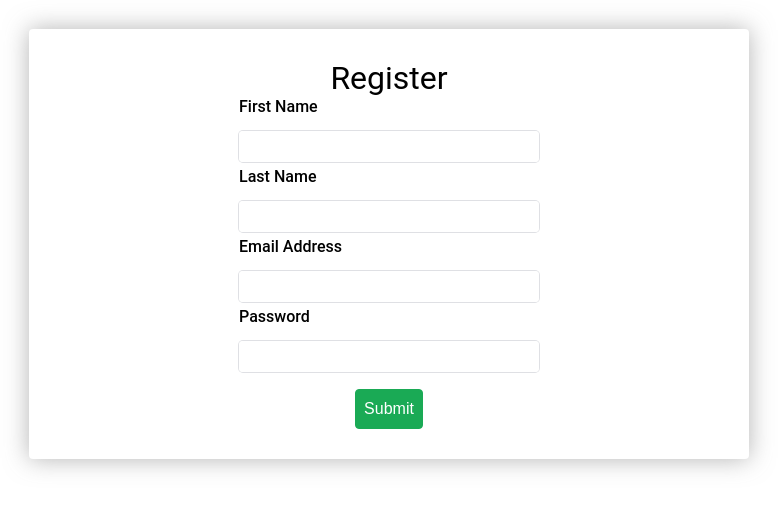
Registration Form tests › Success test
This screenshot has width=779, height=529.
Type "krishnakanth" into the field with test id "formFirstName" at (389,146), box [239,131,539,162]
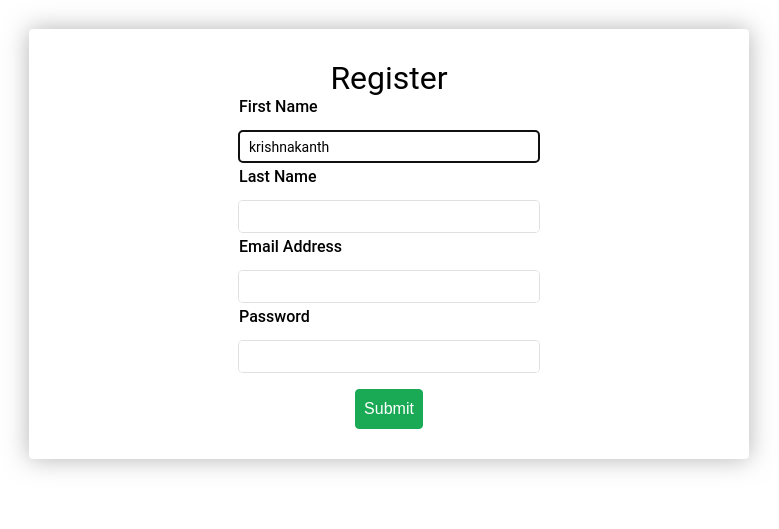
Type "M" into the field with test id "formLastName" at (389,216), box [239,201,539,232]
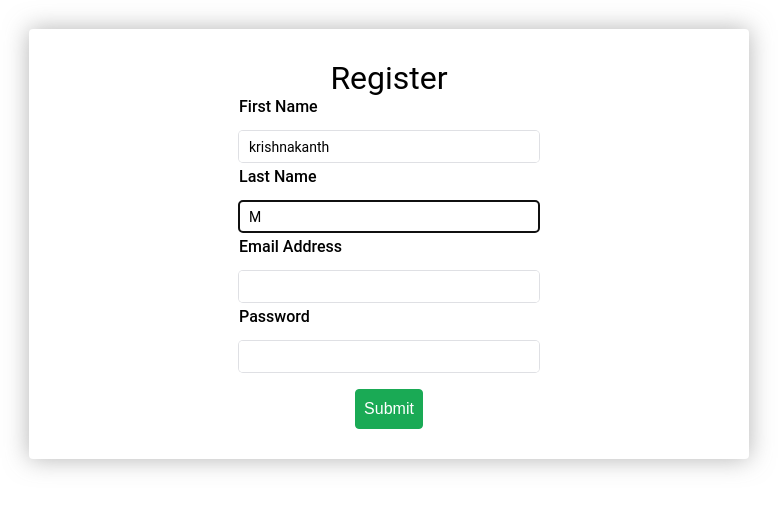
Type "krishna@g.com" into the field with test id "formEmail" at (389,286), box [239,271,539,302]
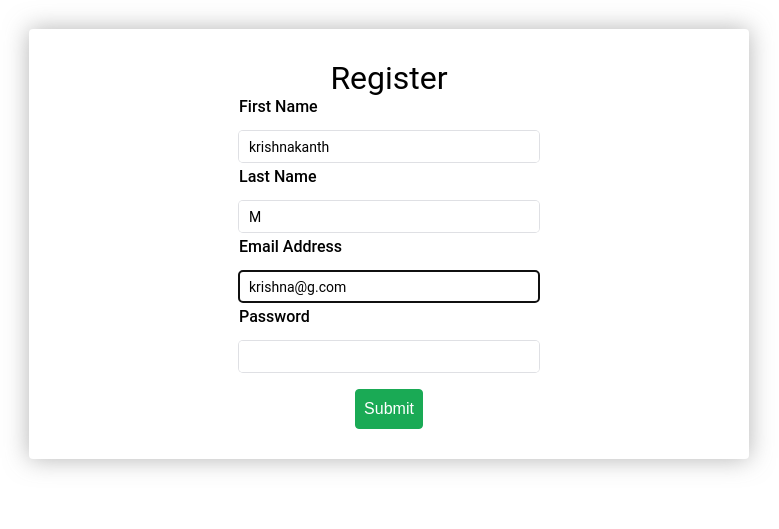
Type "password@123" into the password field with test id "formPassword" at (389,356), box [239,341,539,372]
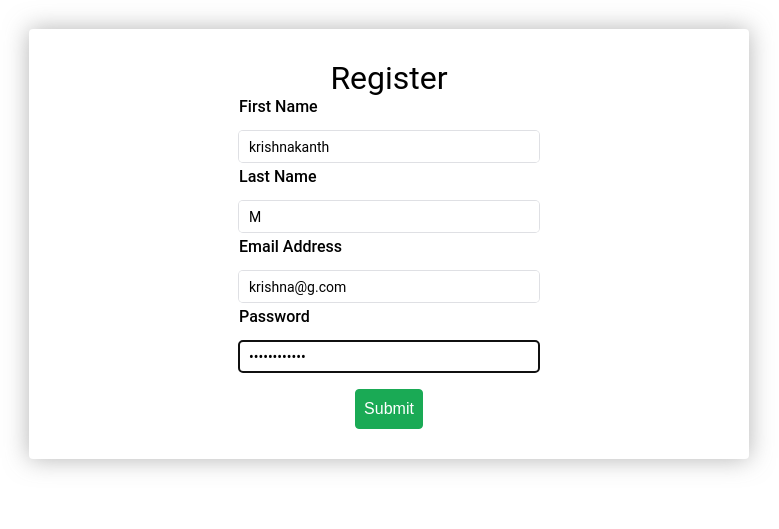
Click the button with test id "formSubmitButton" at (389,409), box [355,389,423,429]
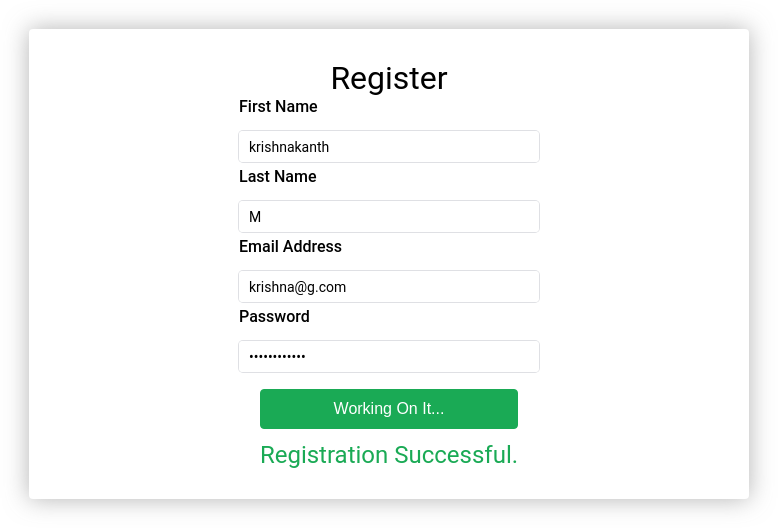
Check: the heading "Registration Successful." is shown, box [260,441,518,469]
